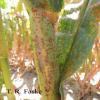Corn rust leaf: (57, 0, 100, 83)
